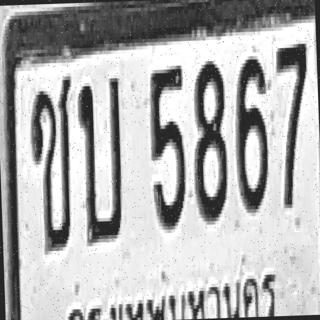A10: (29, 72, 75, 252)
A26: (77, 74, 124, 243)
N05: (148, 64, 187, 228)
N06: (233, 56, 270, 210)
N07: (275, 40, 311, 208)
N08: (190, 60, 228, 221)
